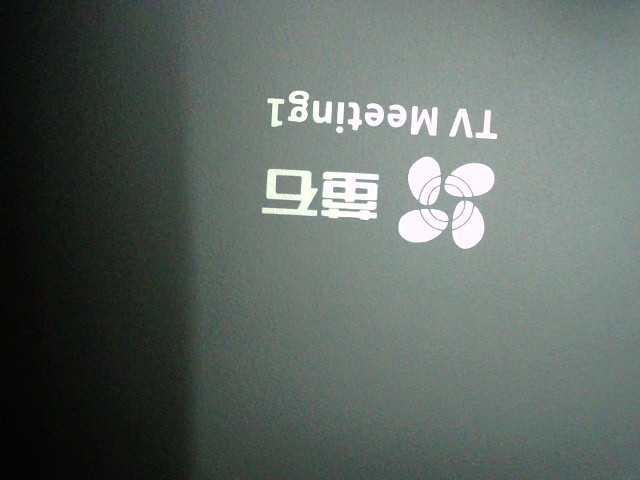BA_Yingshi: (257, 86, 501, 250)
